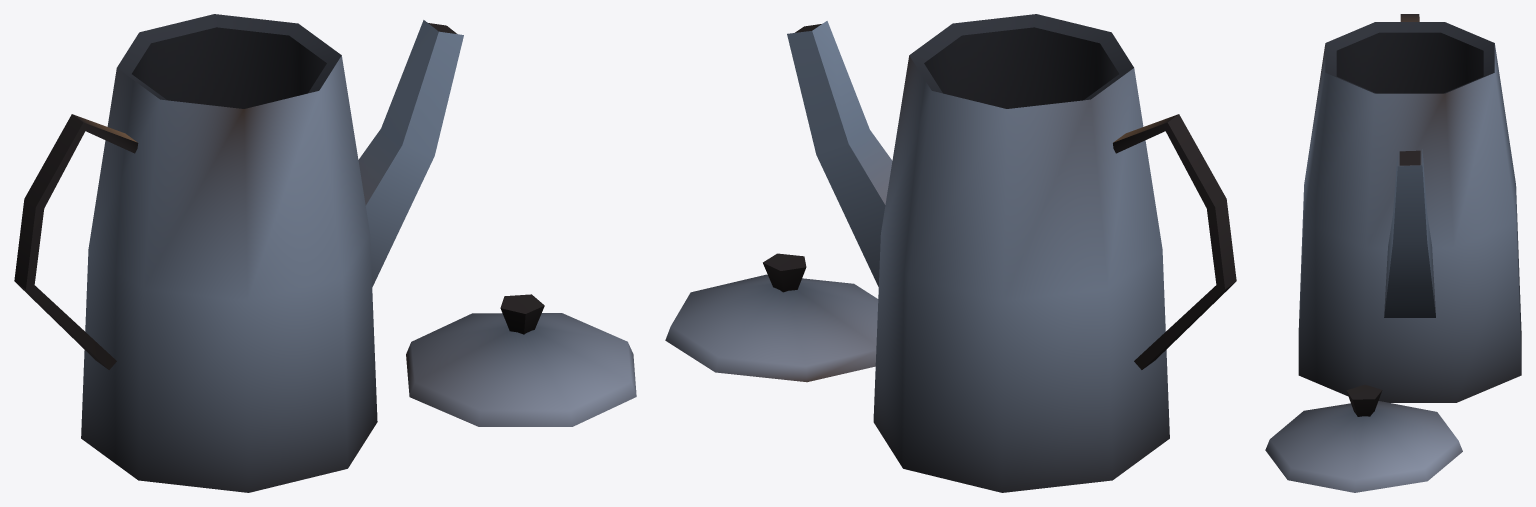
Rendered from prop_coffee_pot.glb.
3 views of the same model, side by side, from view 1: azimuth 30°, elevation 25°; view 2: azimuth 150°, elevation 25°; view 3: azimuth 270°, elevation 25° (orthographic). The views are drawn at different scales.
Parts seen in each view (by area): view 1: prop_coffee_pot_mesh; view 2: prop_coffee_pot_mesh; view 3: prop_coffee_pot_mesh.
Part boxes in pixels (x1,y1,x2,y2): prop_coffee_pot_mesh: [14, 14, 636, 492]; prop_coffee_pot_mesh: [665, 14, 1236, 492]; prop_coffee_pot_mesh: [1265, 14, 1521, 492].
Size of the model in its own units: 0.3535 by 0.2151 by 0.1677.
